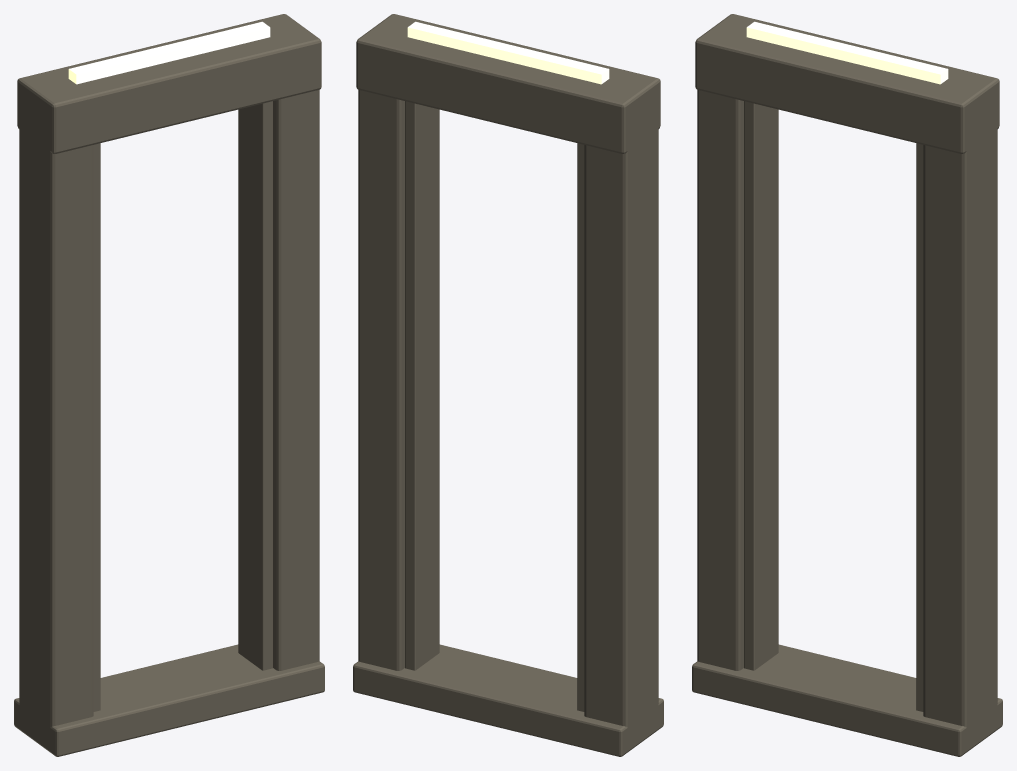
Rendered from door_frame.glb.
3 renders of one model, left to right at view 1: azimuth 30°, elevation 25°; view 2: azimuth 150°, elevation 25°; view 3: azimuth 330°, elevation 25°, orthographic.
Visible parts, largest first — view 1: door_frame; view 2: door_frame; view 3: door_frame.
Part boxes in pixels (x1,y1,x2,y2): door_frame: (14, 14, 324, 756); door_frame: (353, 14, 663, 756); door_frame: (692, 14, 1002, 756).
Bounding box in the file's own units: 1 × 2.35 × 0.28.
